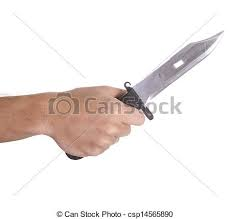knife: (60, 27, 227, 167)
